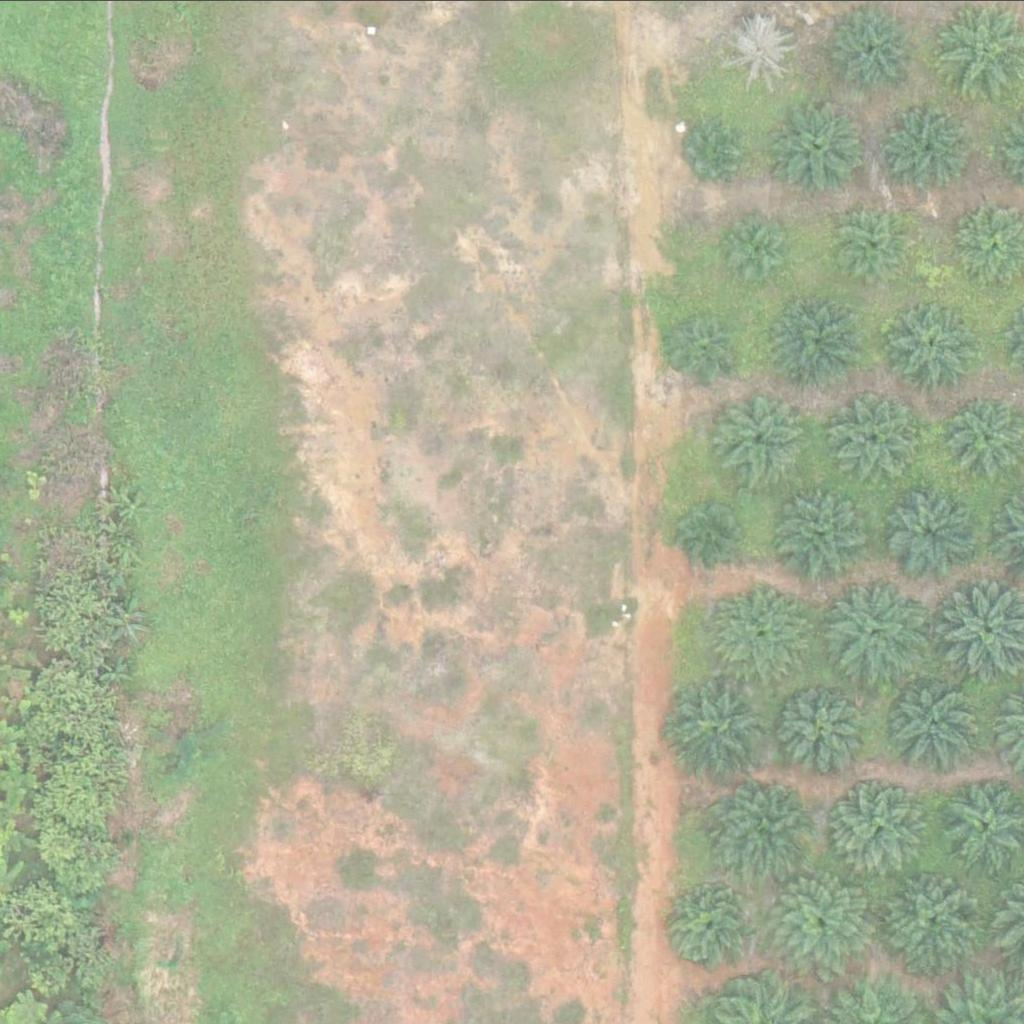Kelapa_Sawit: (766, 863, 880, 976), (878, 859, 992, 972), (663, 669, 776, 781), (718, 773, 819, 873), (777, 672, 878, 772), (883, 670, 984, 770), (715, 579, 816, 679), (821, 577, 922, 677), (773, 483, 874, 583), (881, 480, 982, 580), (711, 386, 812, 486), (827, 773, 927, 873), (769, 94, 869, 194), (835, 390, 924, 478), (778, 296, 866, 384), (891, 299, 979, 387), (666, 882, 754, 969), (886, 102, 974, 189), (722, 13, 798, 88), (841, 207, 916, 282), (674, 314, 737, 377), (721, 217, 784, 280), (676, 497, 739, 560), (682, 122, 744, 184)
